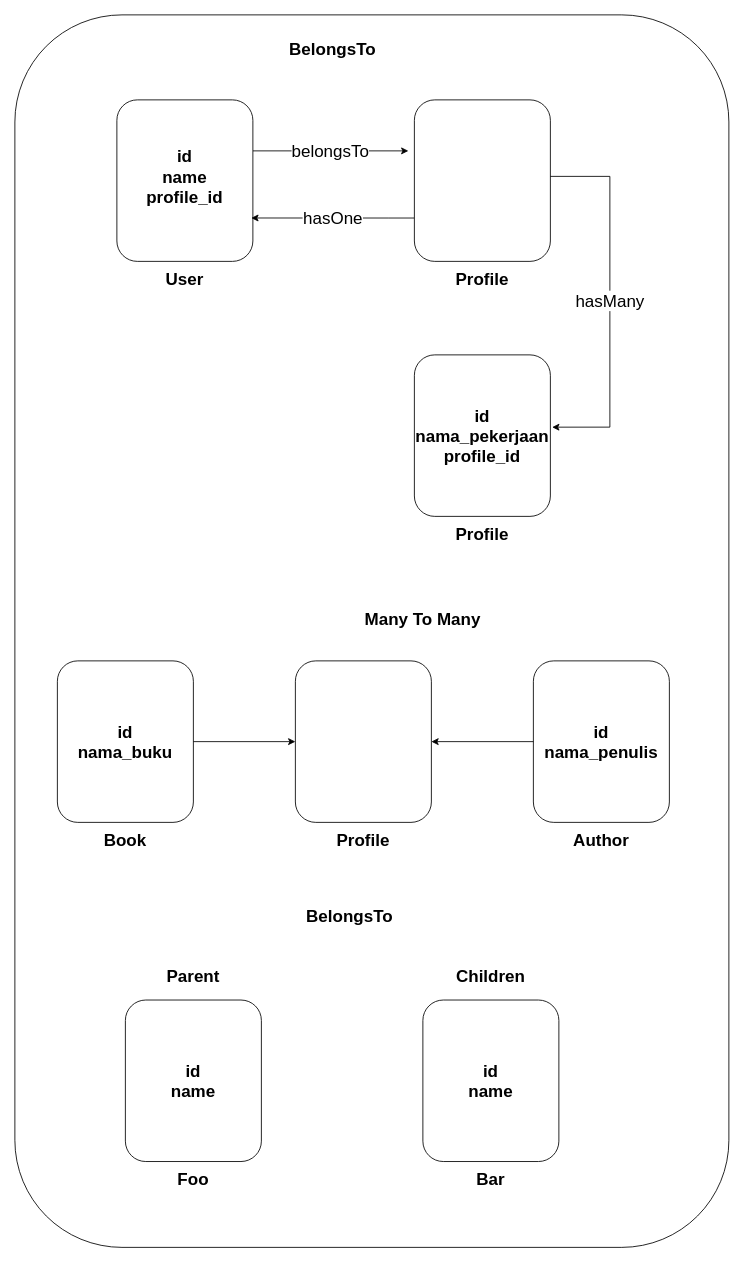
Image size: 744x1262. Some labels were removed from this diagram. The centre of each missing label's shape, as x and y in pixels:
id author_id book_id: (363,741)
id biodata alamat user_id: (482,180)
